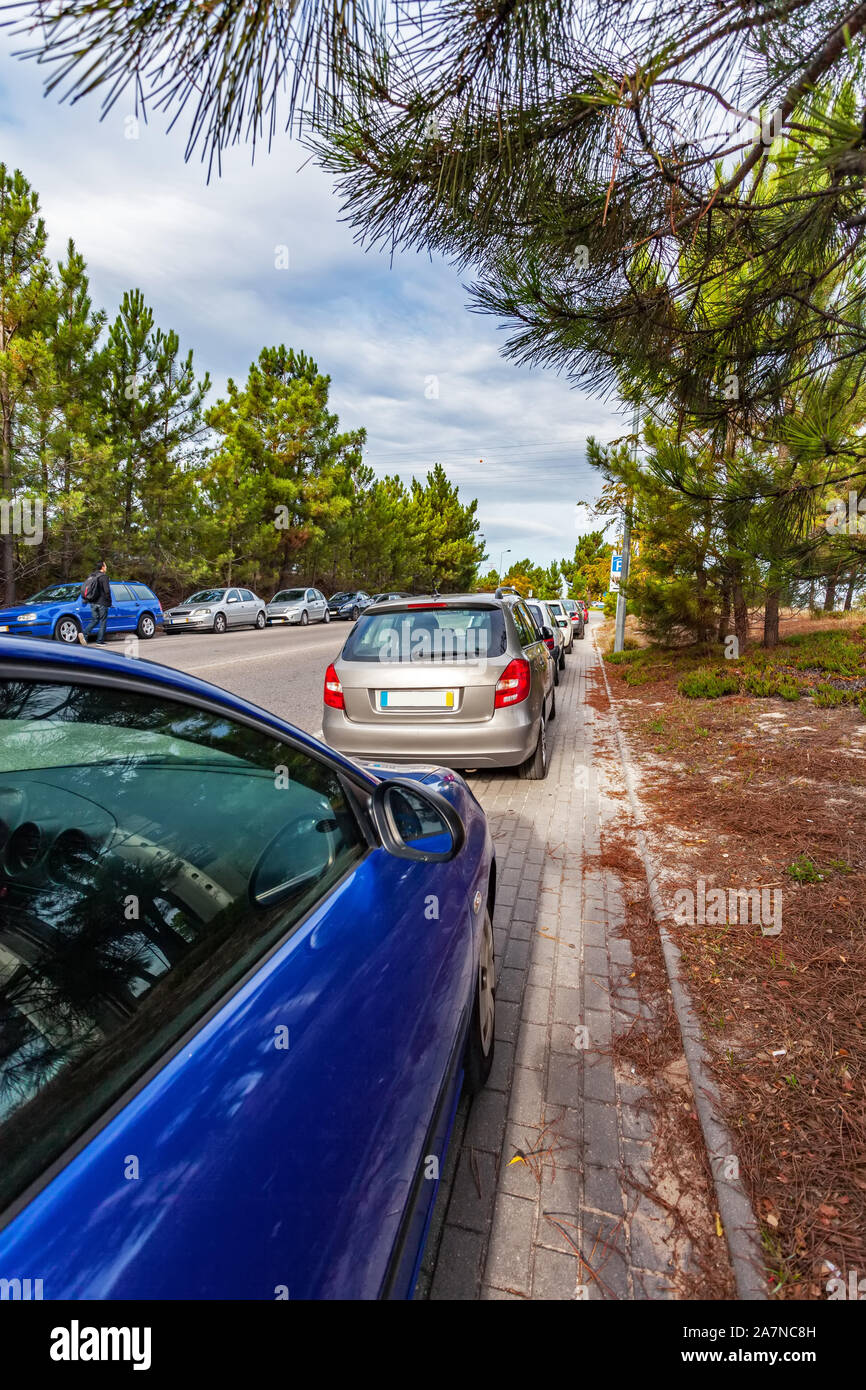Car: (3, 619, 508, 1335), (295, 582, 585, 768), (9, 564, 176, 655), (161, 577, 267, 638), (266, 573, 331, 629)
